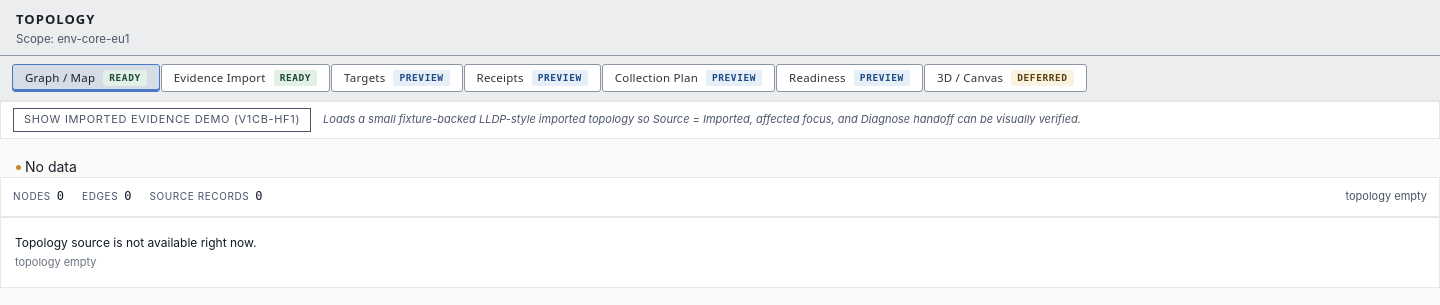
Test: TopologyMode — workbench (V1BI) › Readiness falls back to honest unavailable state when view is null
Step 1. Click the tab with test id "mwb-tool-readiness" → (849, 78), box [776, 64, 923, 92]
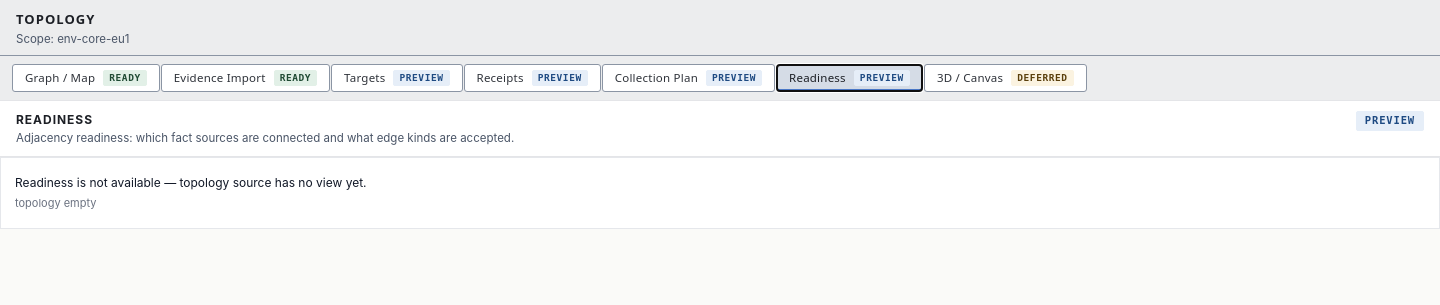
Expected: the message "Readiness is not available — topology source has no view yet. topology empty" is shown, [0, 157, 1439, 229]
